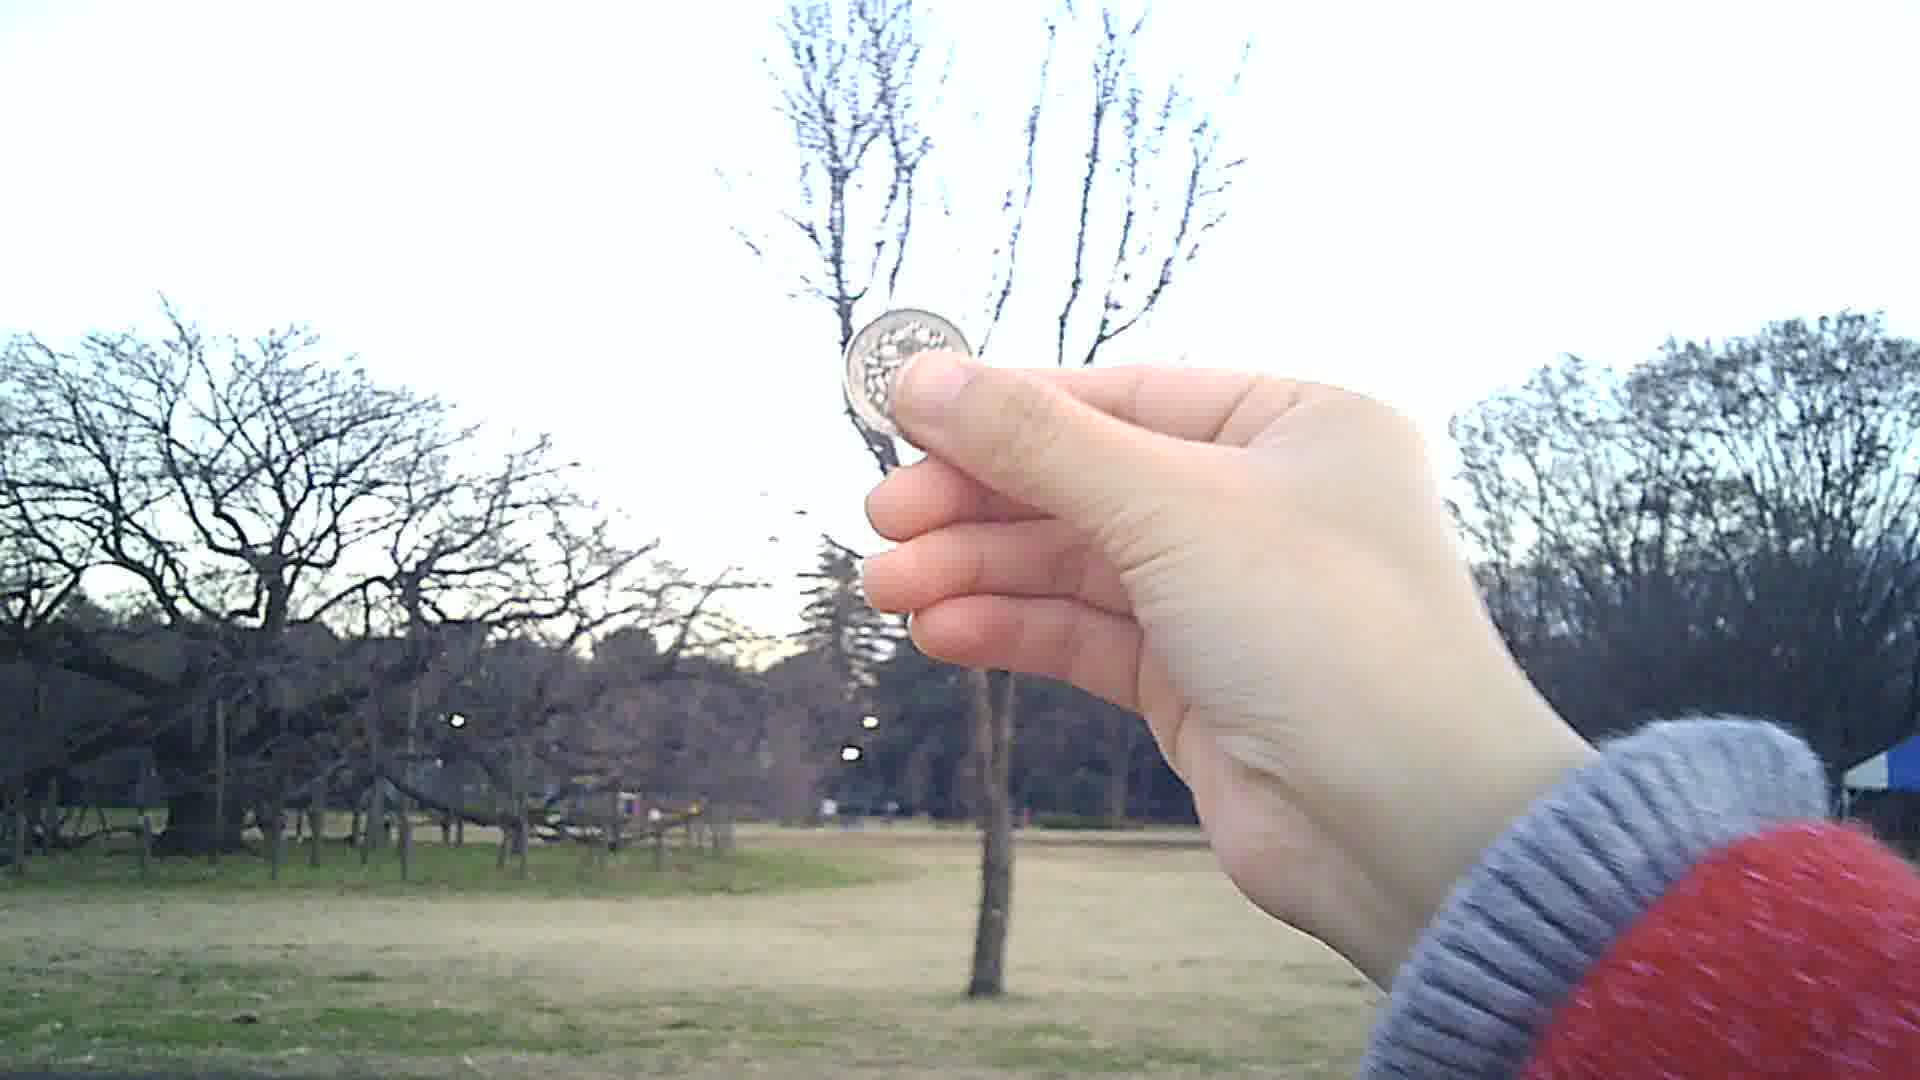100 Yen: (833, 311, 996, 442)
